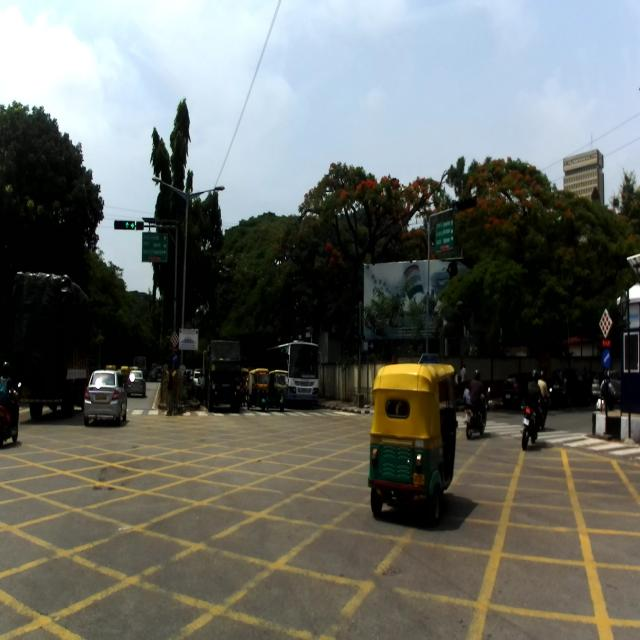autorickshaw: (367, 362, 462, 528), (246, 366, 272, 409)
bus: (266, 338, 325, 401)
car: (79, 366, 128, 428), (126, 366, 147, 402)
truck: (200, 338, 243, 414)
